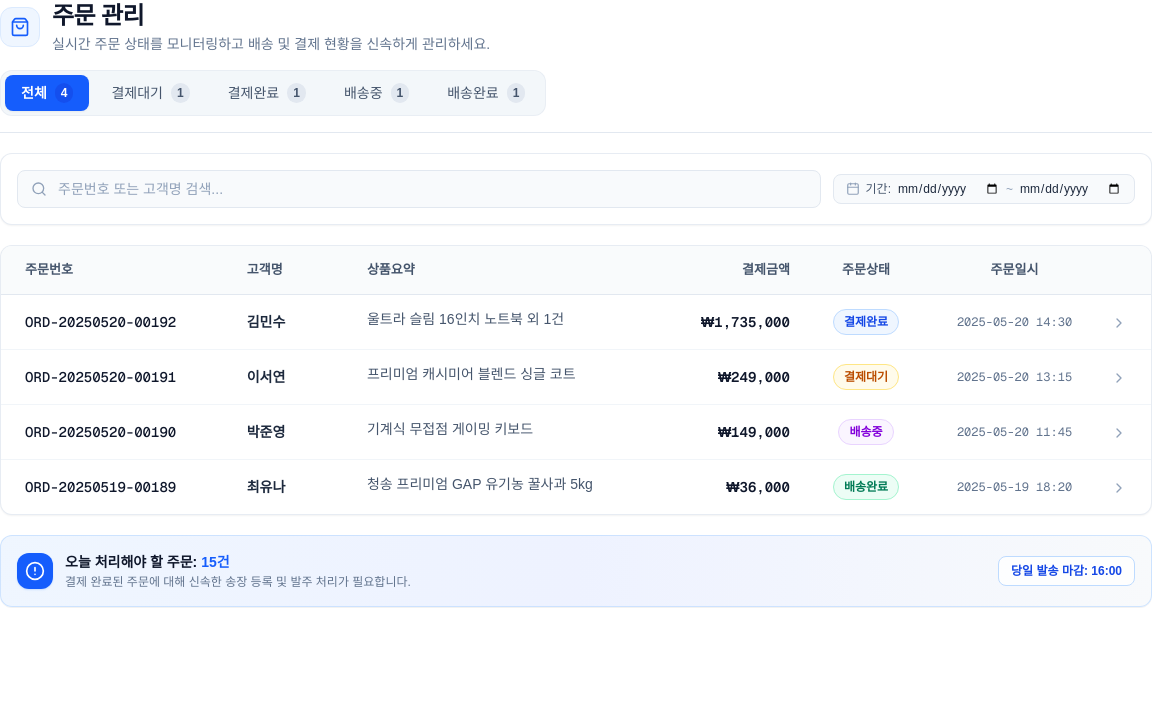
Test case: OrderView Component (Integration Test) › 주문 행 클릭 시 상세 모달이 열리고 닫기 버튼으로 닫힌다
김민수 주문 행 클릭
Step 1. Click the text "ORD-20250520-00192" → (116, 322), box [1,294,231,349]
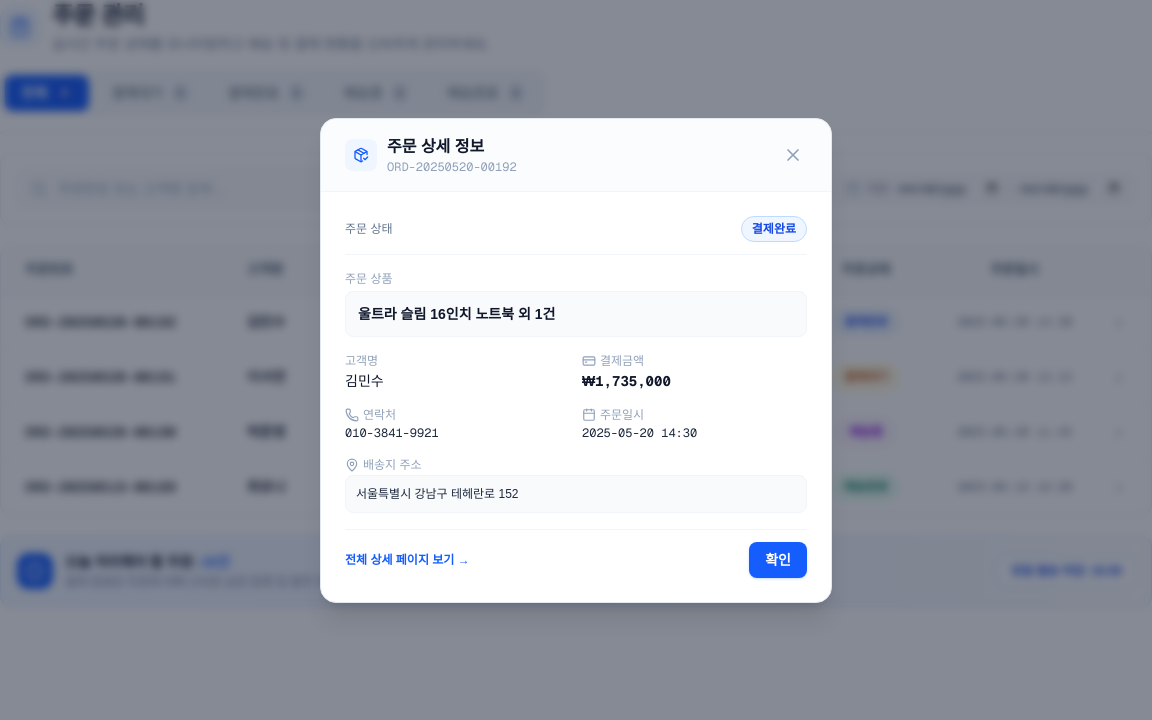
expect the heading "주문 상세 정보" is shown: met, box [387,138,484,154]
expect the text "010-3841-9921" is shown: met, box [345,424,439,440]
expect the text "서울특별시 강남구 테헤란로 152" is shown: met, box [345,474,807,512]
닫기 버튼 클릭
Step 2. Click the button named "닫기" → (793, 154), box [779,140,807,168]
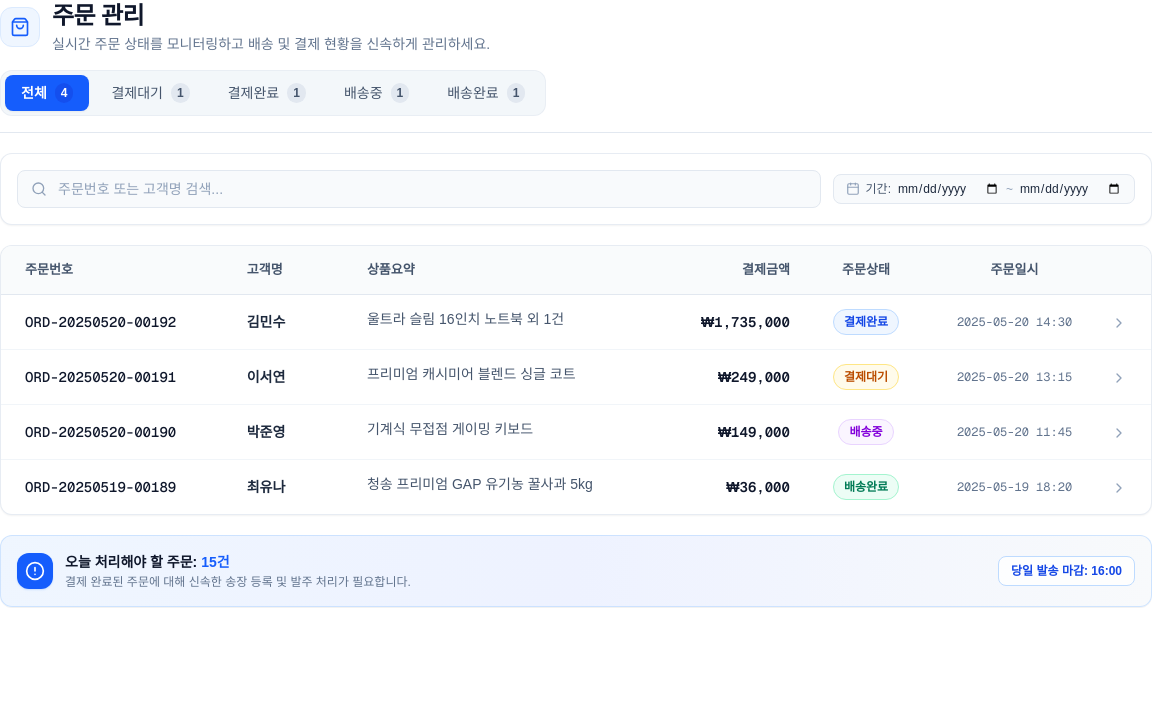
expect the heading "주문 상세 정보" is gone: met
